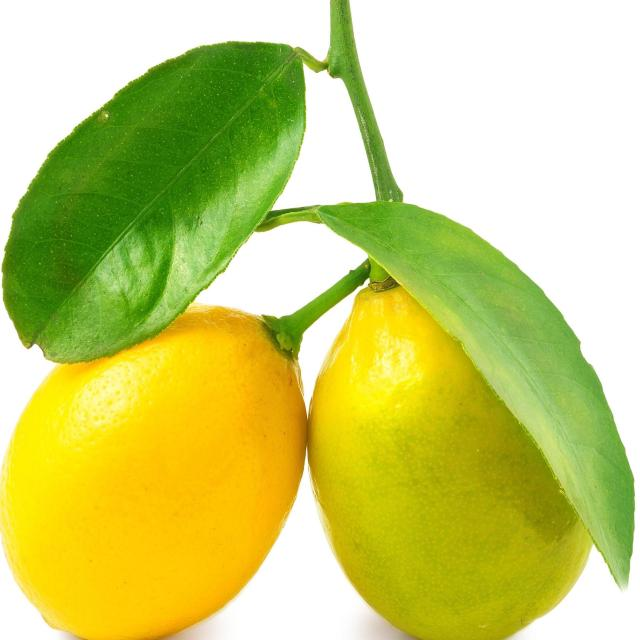lemon: (0, 290, 330, 640)
